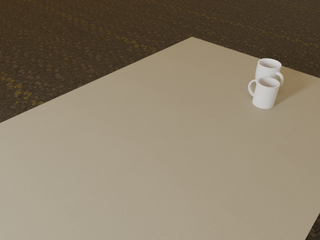cup: (248, 77, 280, 109), (255, 59, 283, 87)
